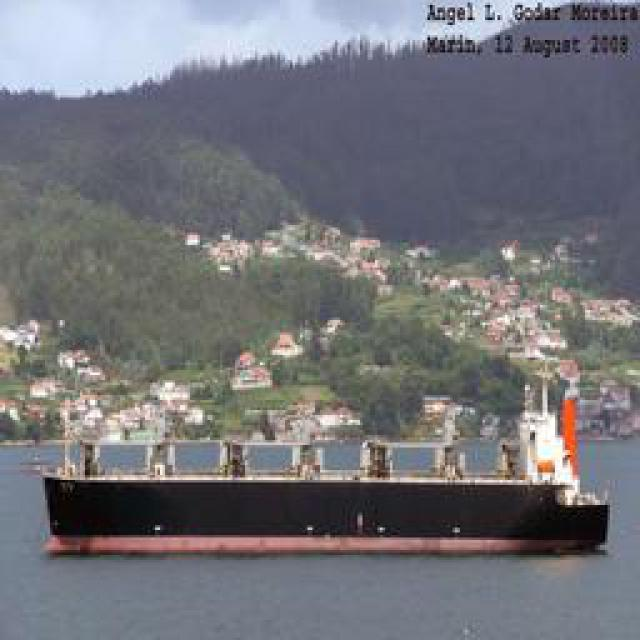Ship: (26, 330, 621, 548)
